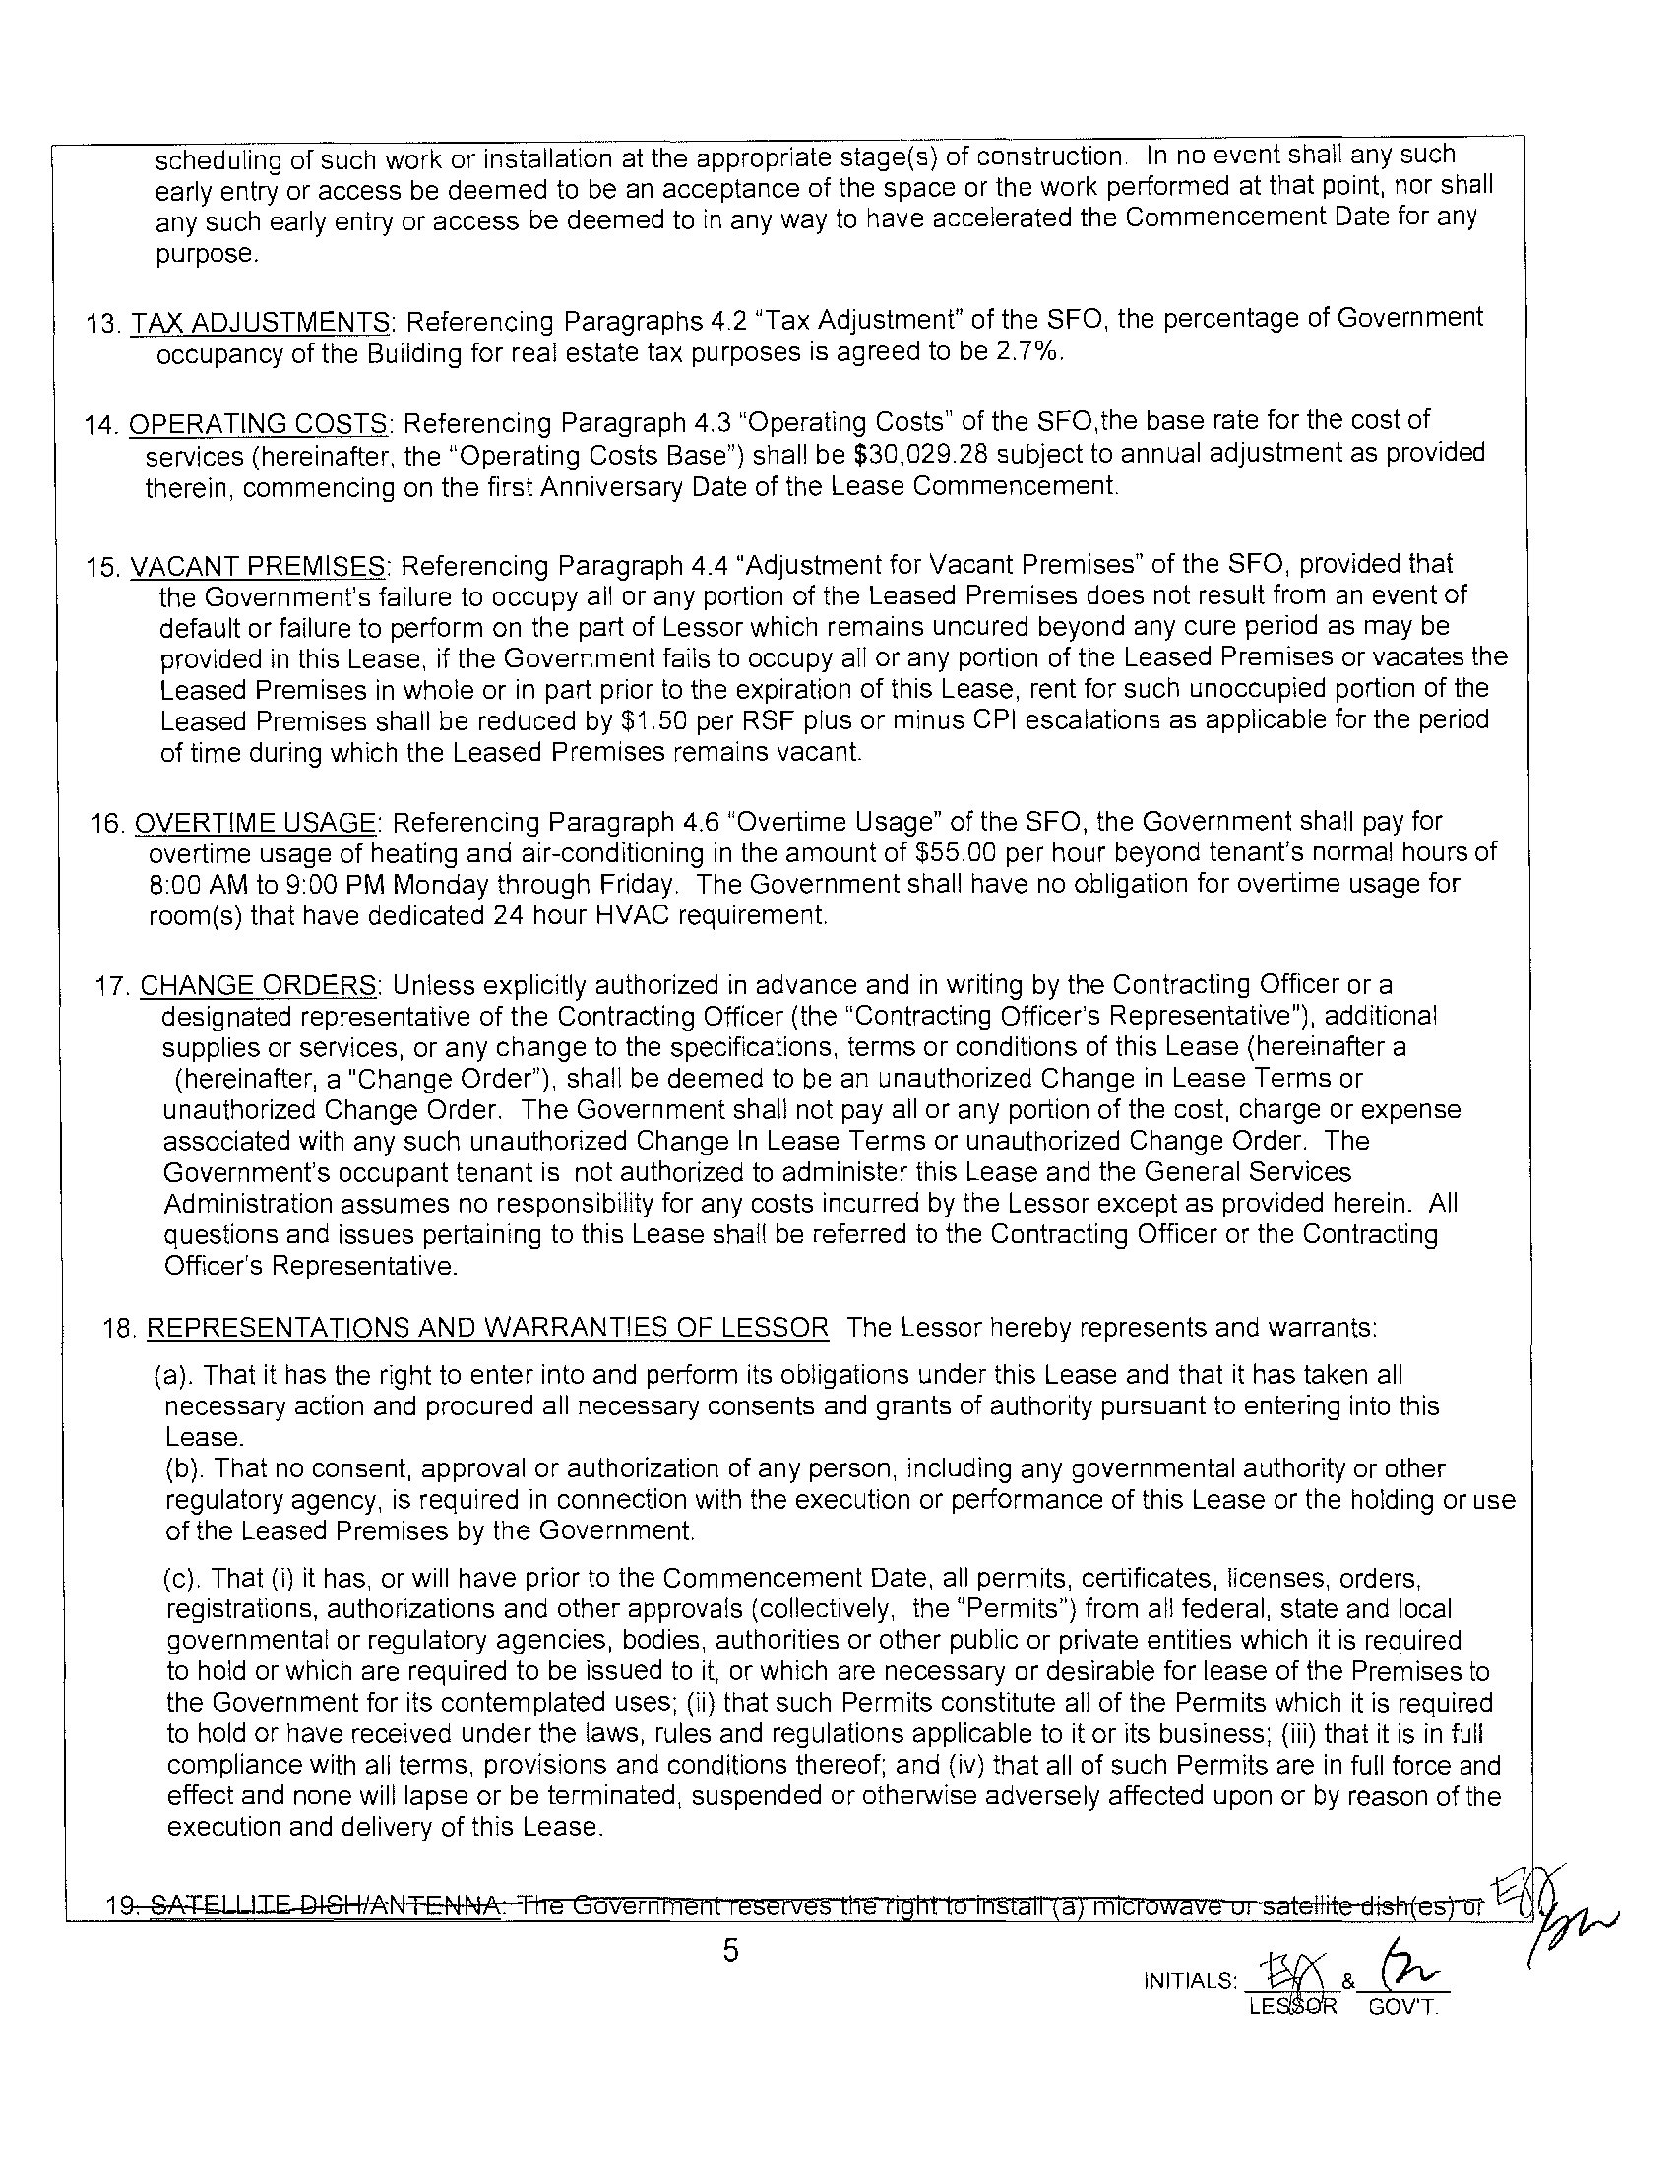handwritten: (1486, 1851, 1636, 1956), (1251, 1928, 1449, 1995)
